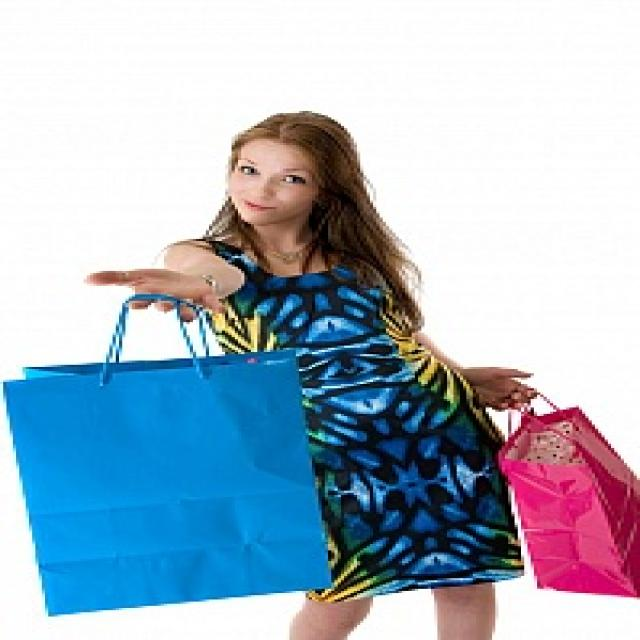Eyes: (235, 157, 317, 189)
